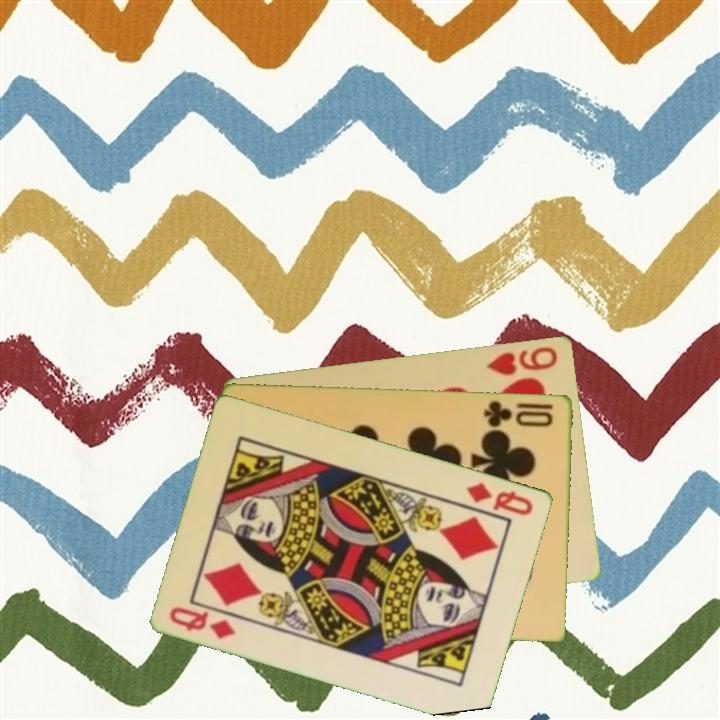10c: (480, 396, 556, 430)
9h: (483, 343, 561, 378)
Qd: (463, 478, 537, 518), (166, 603, 239, 642)
